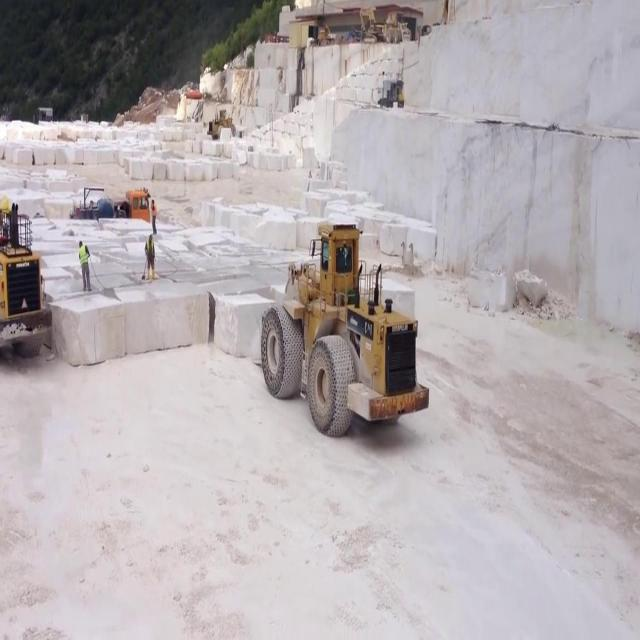Dump Truck: (67, 185, 152, 219)
Loader: (260, 218, 430, 438)
